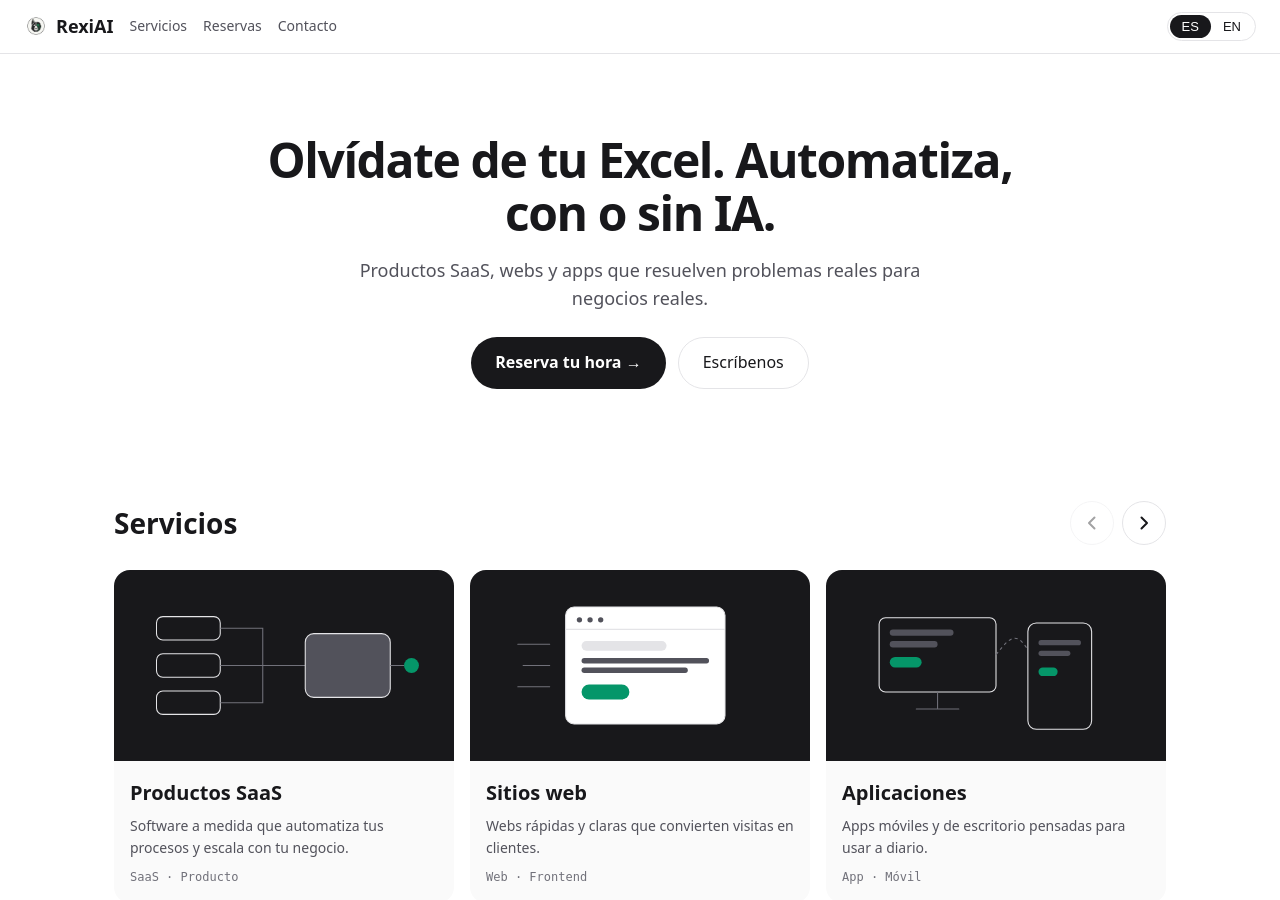
Test: AC-001 › AC-001-03: Switching back to Spanish
Click the button "EN" at (1232, 26), box [1211,15,1253,38]
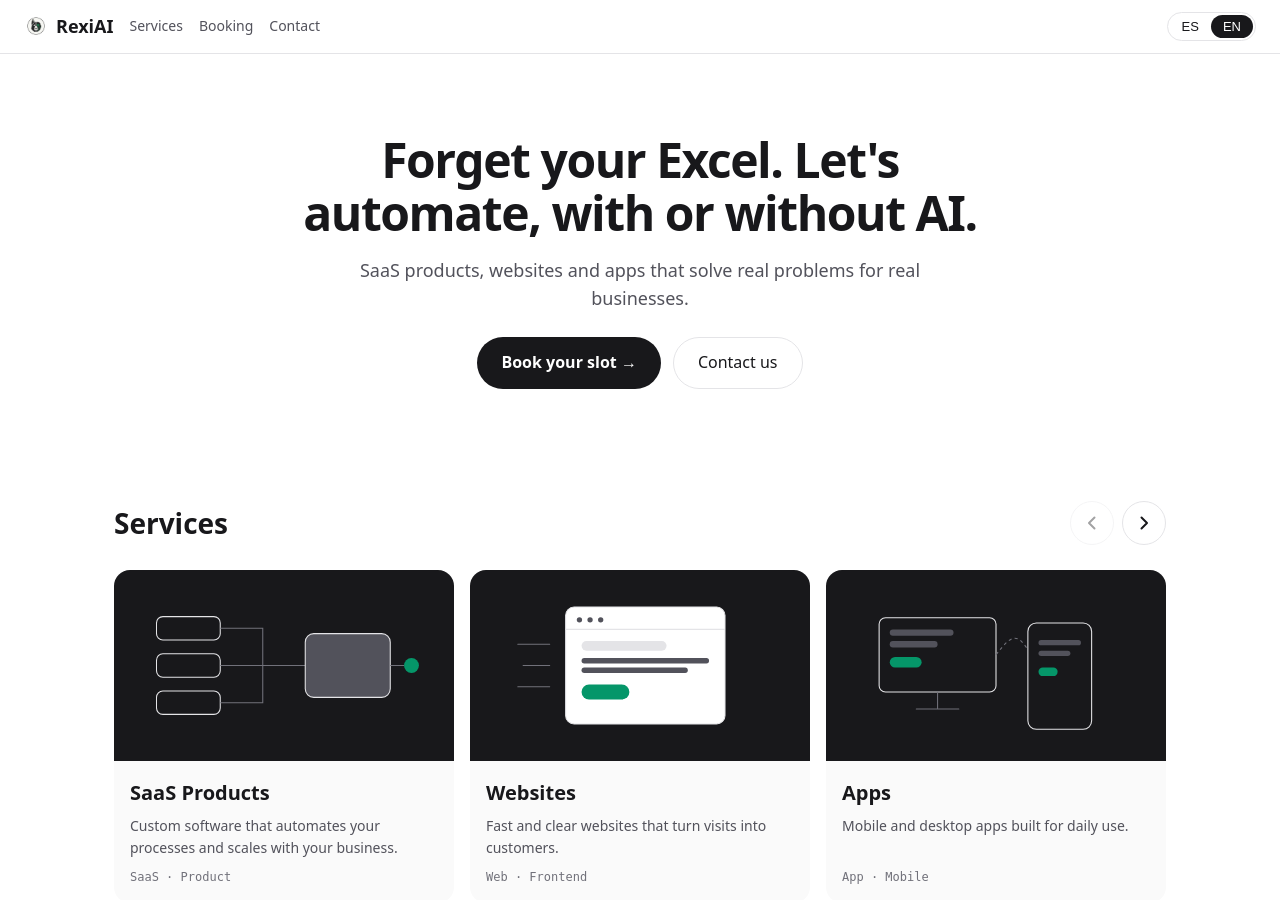
Click the button "ES" at (1190, 26), box [1170,15,1211,38]
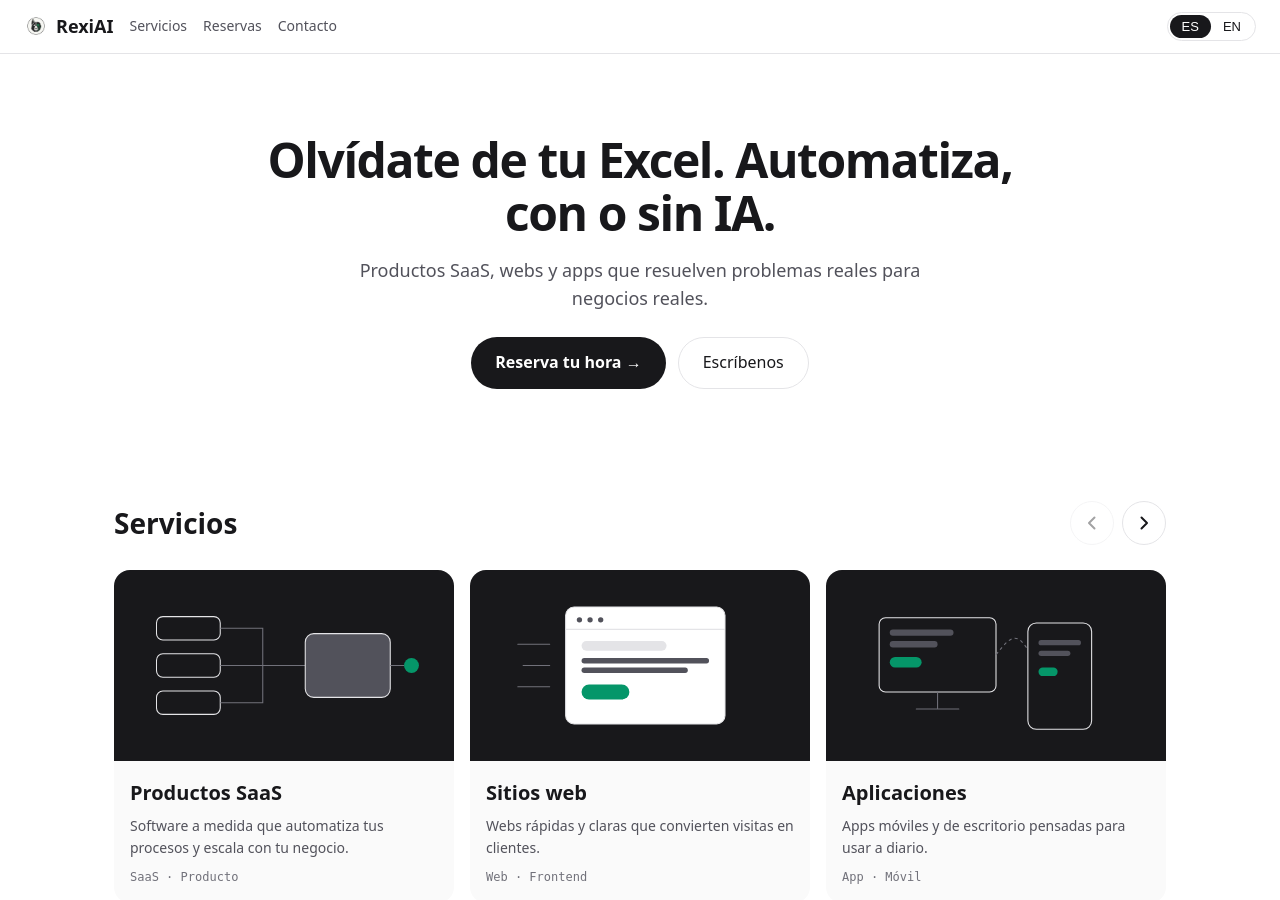
Result: the heading "Olvídate de tu Excel. Automatiza, con o sin IA." is shown at [264,134,1016,240]
